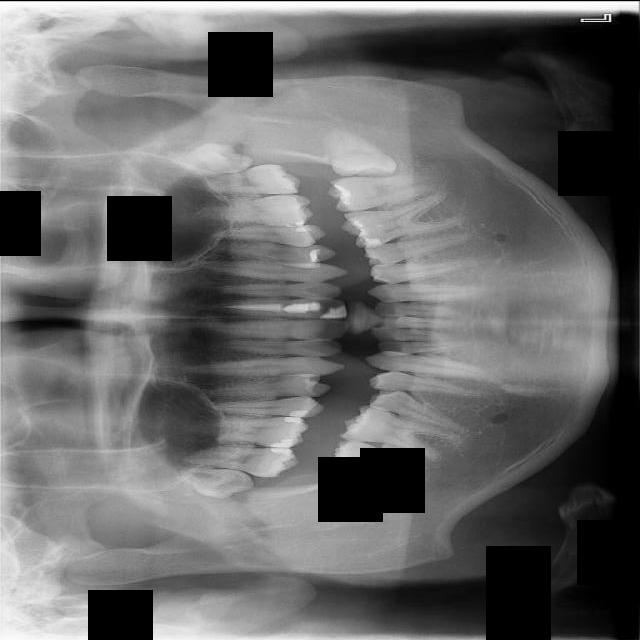3M ESPE Implant: (180, 467, 254, 498)
52: (325, 168, 382, 217), (339, 205, 400, 250), (247, 191, 315, 227), (270, 239, 337, 271), (253, 413, 310, 449), (241, 445, 300, 477), (281, 295, 347, 318), (271, 222, 325, 246), (276, 394, 325, 418)
73: (210, 297, 302, 317), (589, 39, 595, 45)
BioHorizons Implant: (202, 162, 302, 195)
BioLife Implant: (152, 137, 254, 181)
Biomet 3i Implant: (316, 122, 401, 196)
Blue Sky Bio Implant: (327, 171, 440, 213)
Caries: (189, 440, 299, 479)
Implant: (323, 435, 434, 486)
Keystone Dental Implant: (331, 464, 408, 517)
